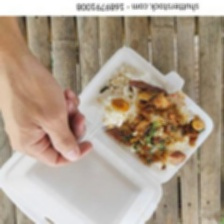foam_box: (0, 40, 217, 224)
